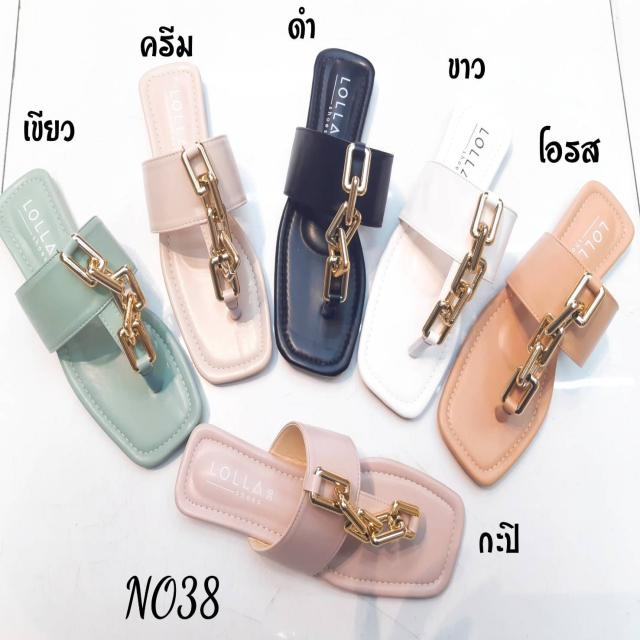black: (276, 48, 376, 370)
cream: (142, 65, 271, 383)
green: (0, 166, 198, 469)
kapi: (176, 426, 462, 604)
orot: (440, 178, 629, 488)
white: (361, 103, 508, 420)
